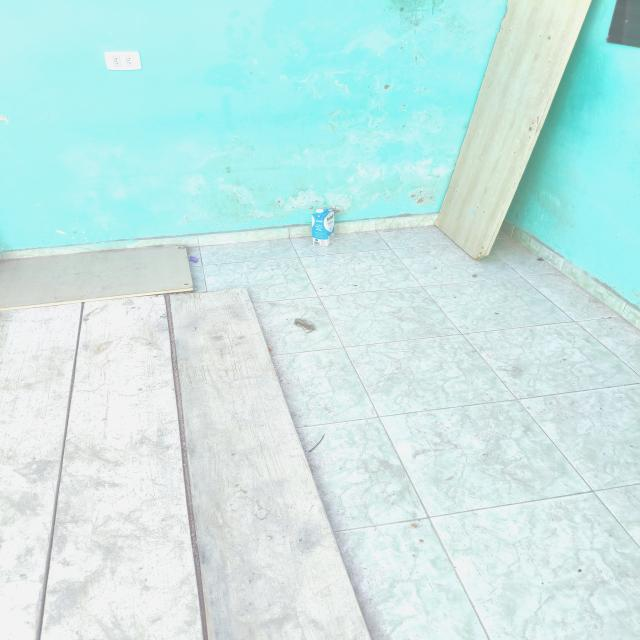Caixa de Leite: (304, 208, 338, 248)
